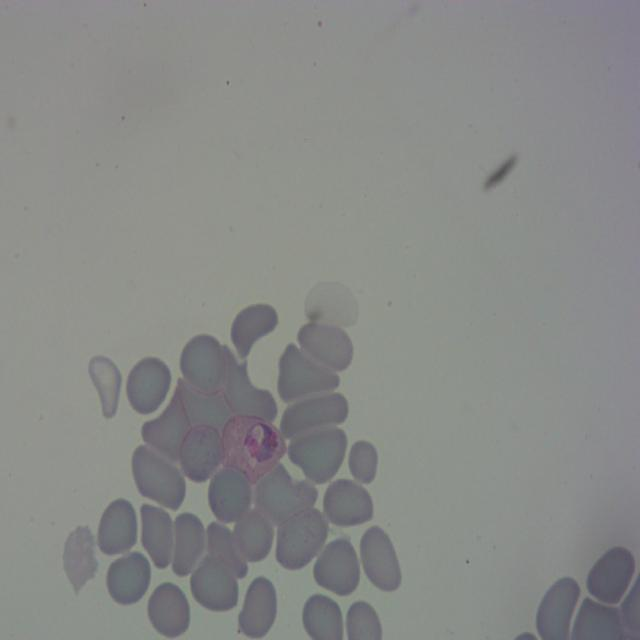leukocyte: (221, 342, 279, 423), (141, 388, 201, 464), (253, 465, 319, 523), (584, 542, 638, 610), (278, 344, 339, 404), (274, 501, 327, 570), (178, 377, 237, 438), (132, 444, 186, 509), (290, 425, 348, 483), (188, 551, 240, 614), (358, 523, 403, 595), (178, 333, 229, 396), (312, 534, 361, 598), (124, 355, 173, 418), (206, 462, 253, 525), (94, 497, 140, 559), (104, 548, 152, 607), (136, 500, 176, 570), (298, 322, 354, 372), (167, 510, 208, 578), (322, 477, 374, 530), (229, 299, 278, 355), (289, 390, 349, 435), (61, 521, 100, 590), (179, 425, 226, 482), (237, 577, 279, 640), (148, 582, 192, 640), (87, 355, 124, 421), (205, 522, 247, 580), (233, 508, 273, 561), (347, 437, 380, 487)
ring: (219, 411, 287, 484)
